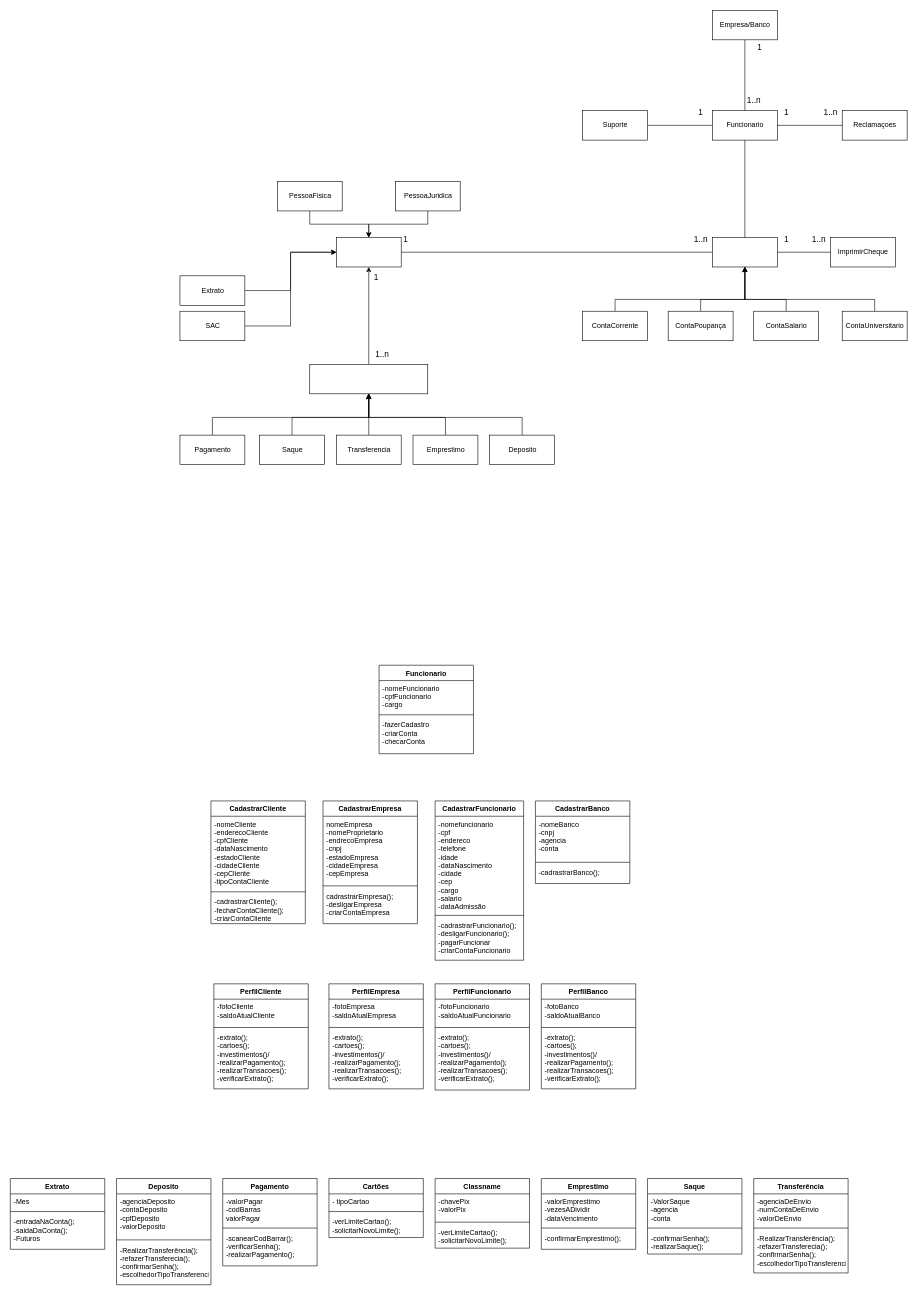
Some shapes in this 917 by 1297 pixel diagram are drawn without their labels. Each missing label, with the centre of its shape:
"Cliente" goes at point (368, 252).
"Conta" goes at point (744, 252).
"Transações" goes at point (368, 379).
